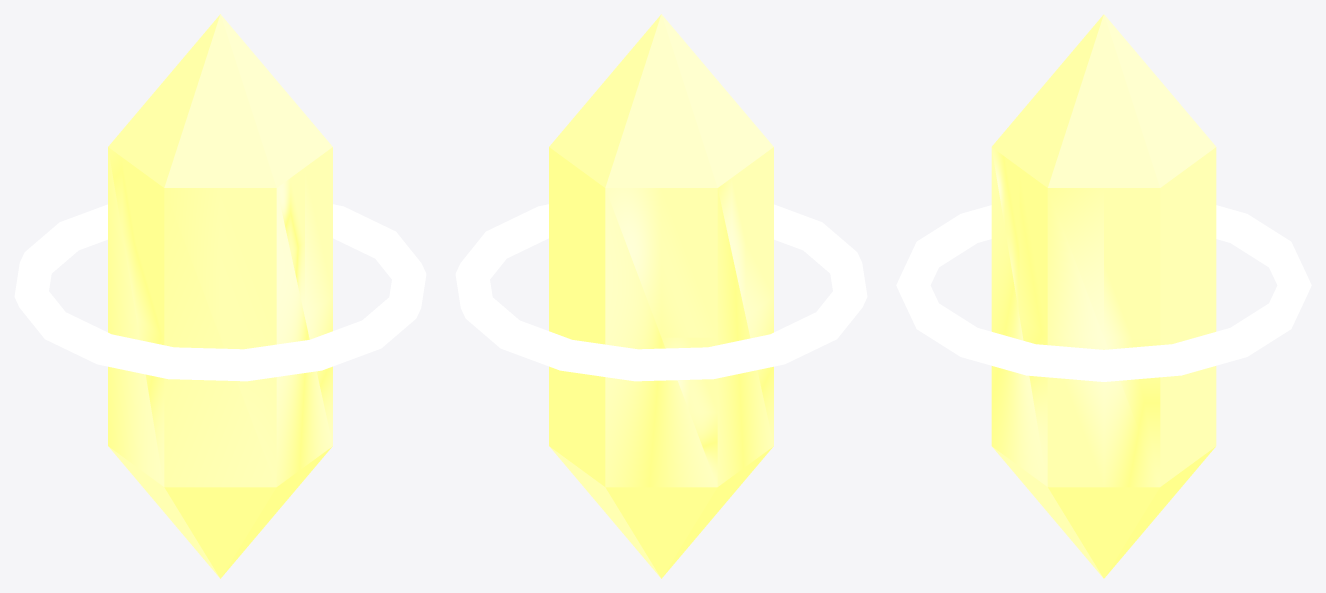
File: crystal4.glb
3 views of the same model, side by side, from view 1: azimuth 30°, elevation 25°; view 2: azimuth 150°, elevation 25°; view 3: azimuth 270°, elevation 25° (orthographic).
Visible parts, largest first — view 1: PrismShaft; view 2: PrismShaft; view 3: PrismShaft.
Boxes of the visible parts, x1,y1,x2,y2 form: PrismShaft: (14,14,426,578); PrismShaft: (455,14,867,578); PrismShaft: (896,14,1311,578).
Bounding box in the file's own units: 1.7 × 2.55 × 1.7.
